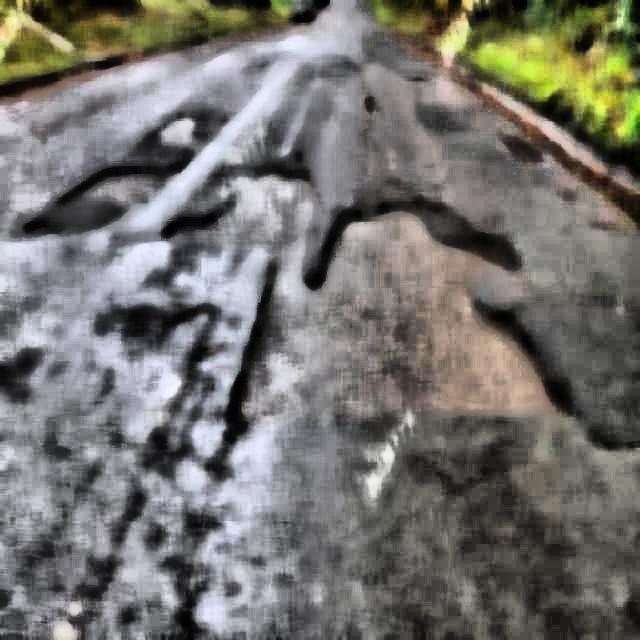buraco: (168, 144, 566, 472), (42, 132, 175, 288), (154, 109, 208, 189)
